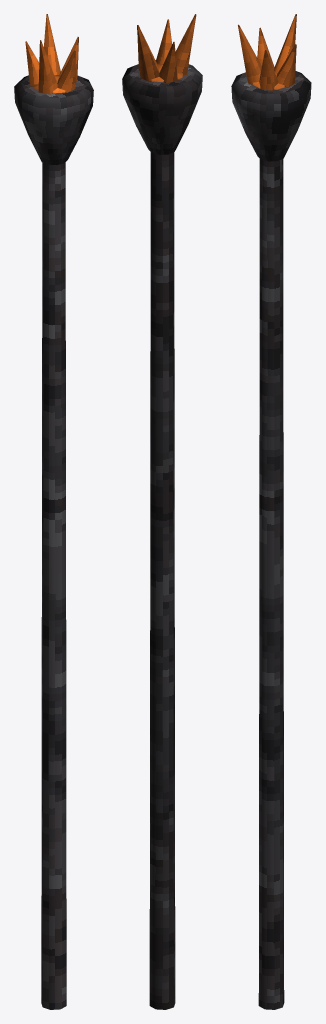
The model's file is brazier_staff.glb.
3 renders of one model, left to right at view 1: azimuth 30°, elevation 25°; view 2: azimuth 150°, elevation 25°; view 3: azimuth 330°, elevation 25°, orthographic.
Parts seen in each view (by area): view 1: brazier_staff; view 2: brazier_staff; view 3: brazier_staff.
Part boxes in pixels (bbox=[...]): brazier_staff: bbox=[14, 14, 93, 1009]; brazier_staff: bbox=[122, 14, 202, 1009]; brazier_staff: bbox=[231, 14, 311, 1009].
Size of the model in its own units: 0.092 by 1.24 by 0.0875.
1 material, 1 textured.
